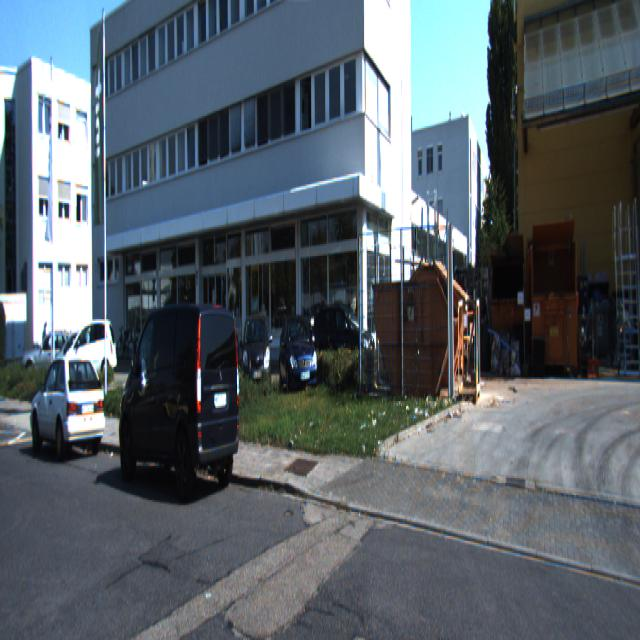Car: (114, 295, 243, 511), (29, 351, 106, 466), (60, 316, 118, 389), (278, 311, 319, 406), (240, 311, 273, 409)
